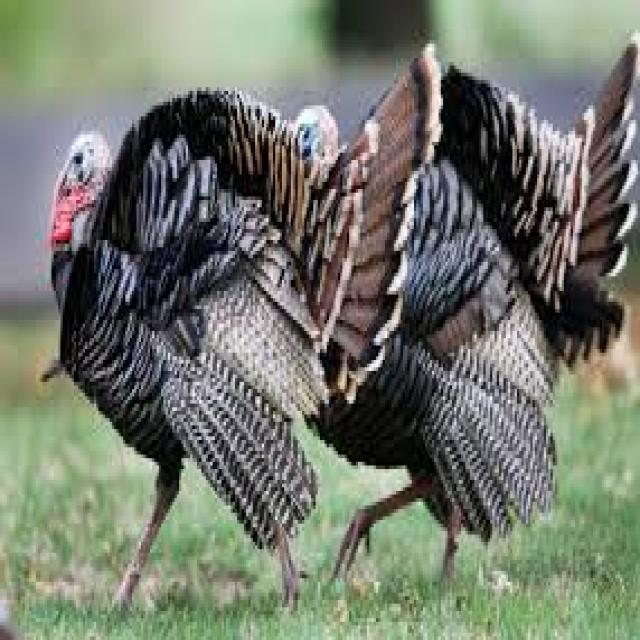Turkey: (296, 24, 636, 596), (37, 76, 378, 614)
